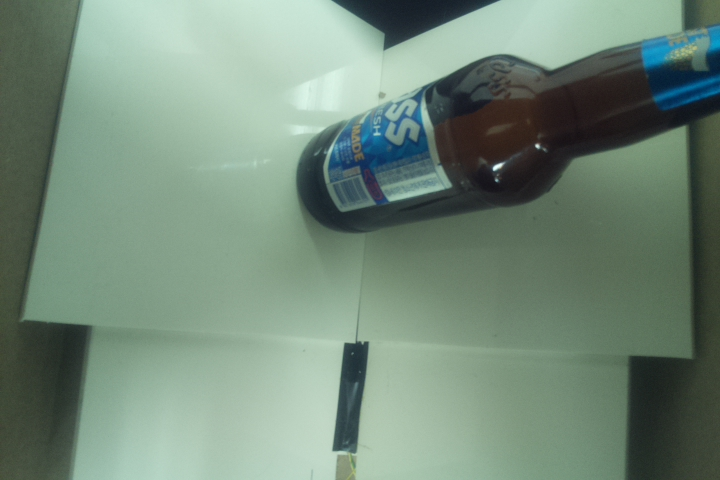makju: (294, 18, 720, 235)
